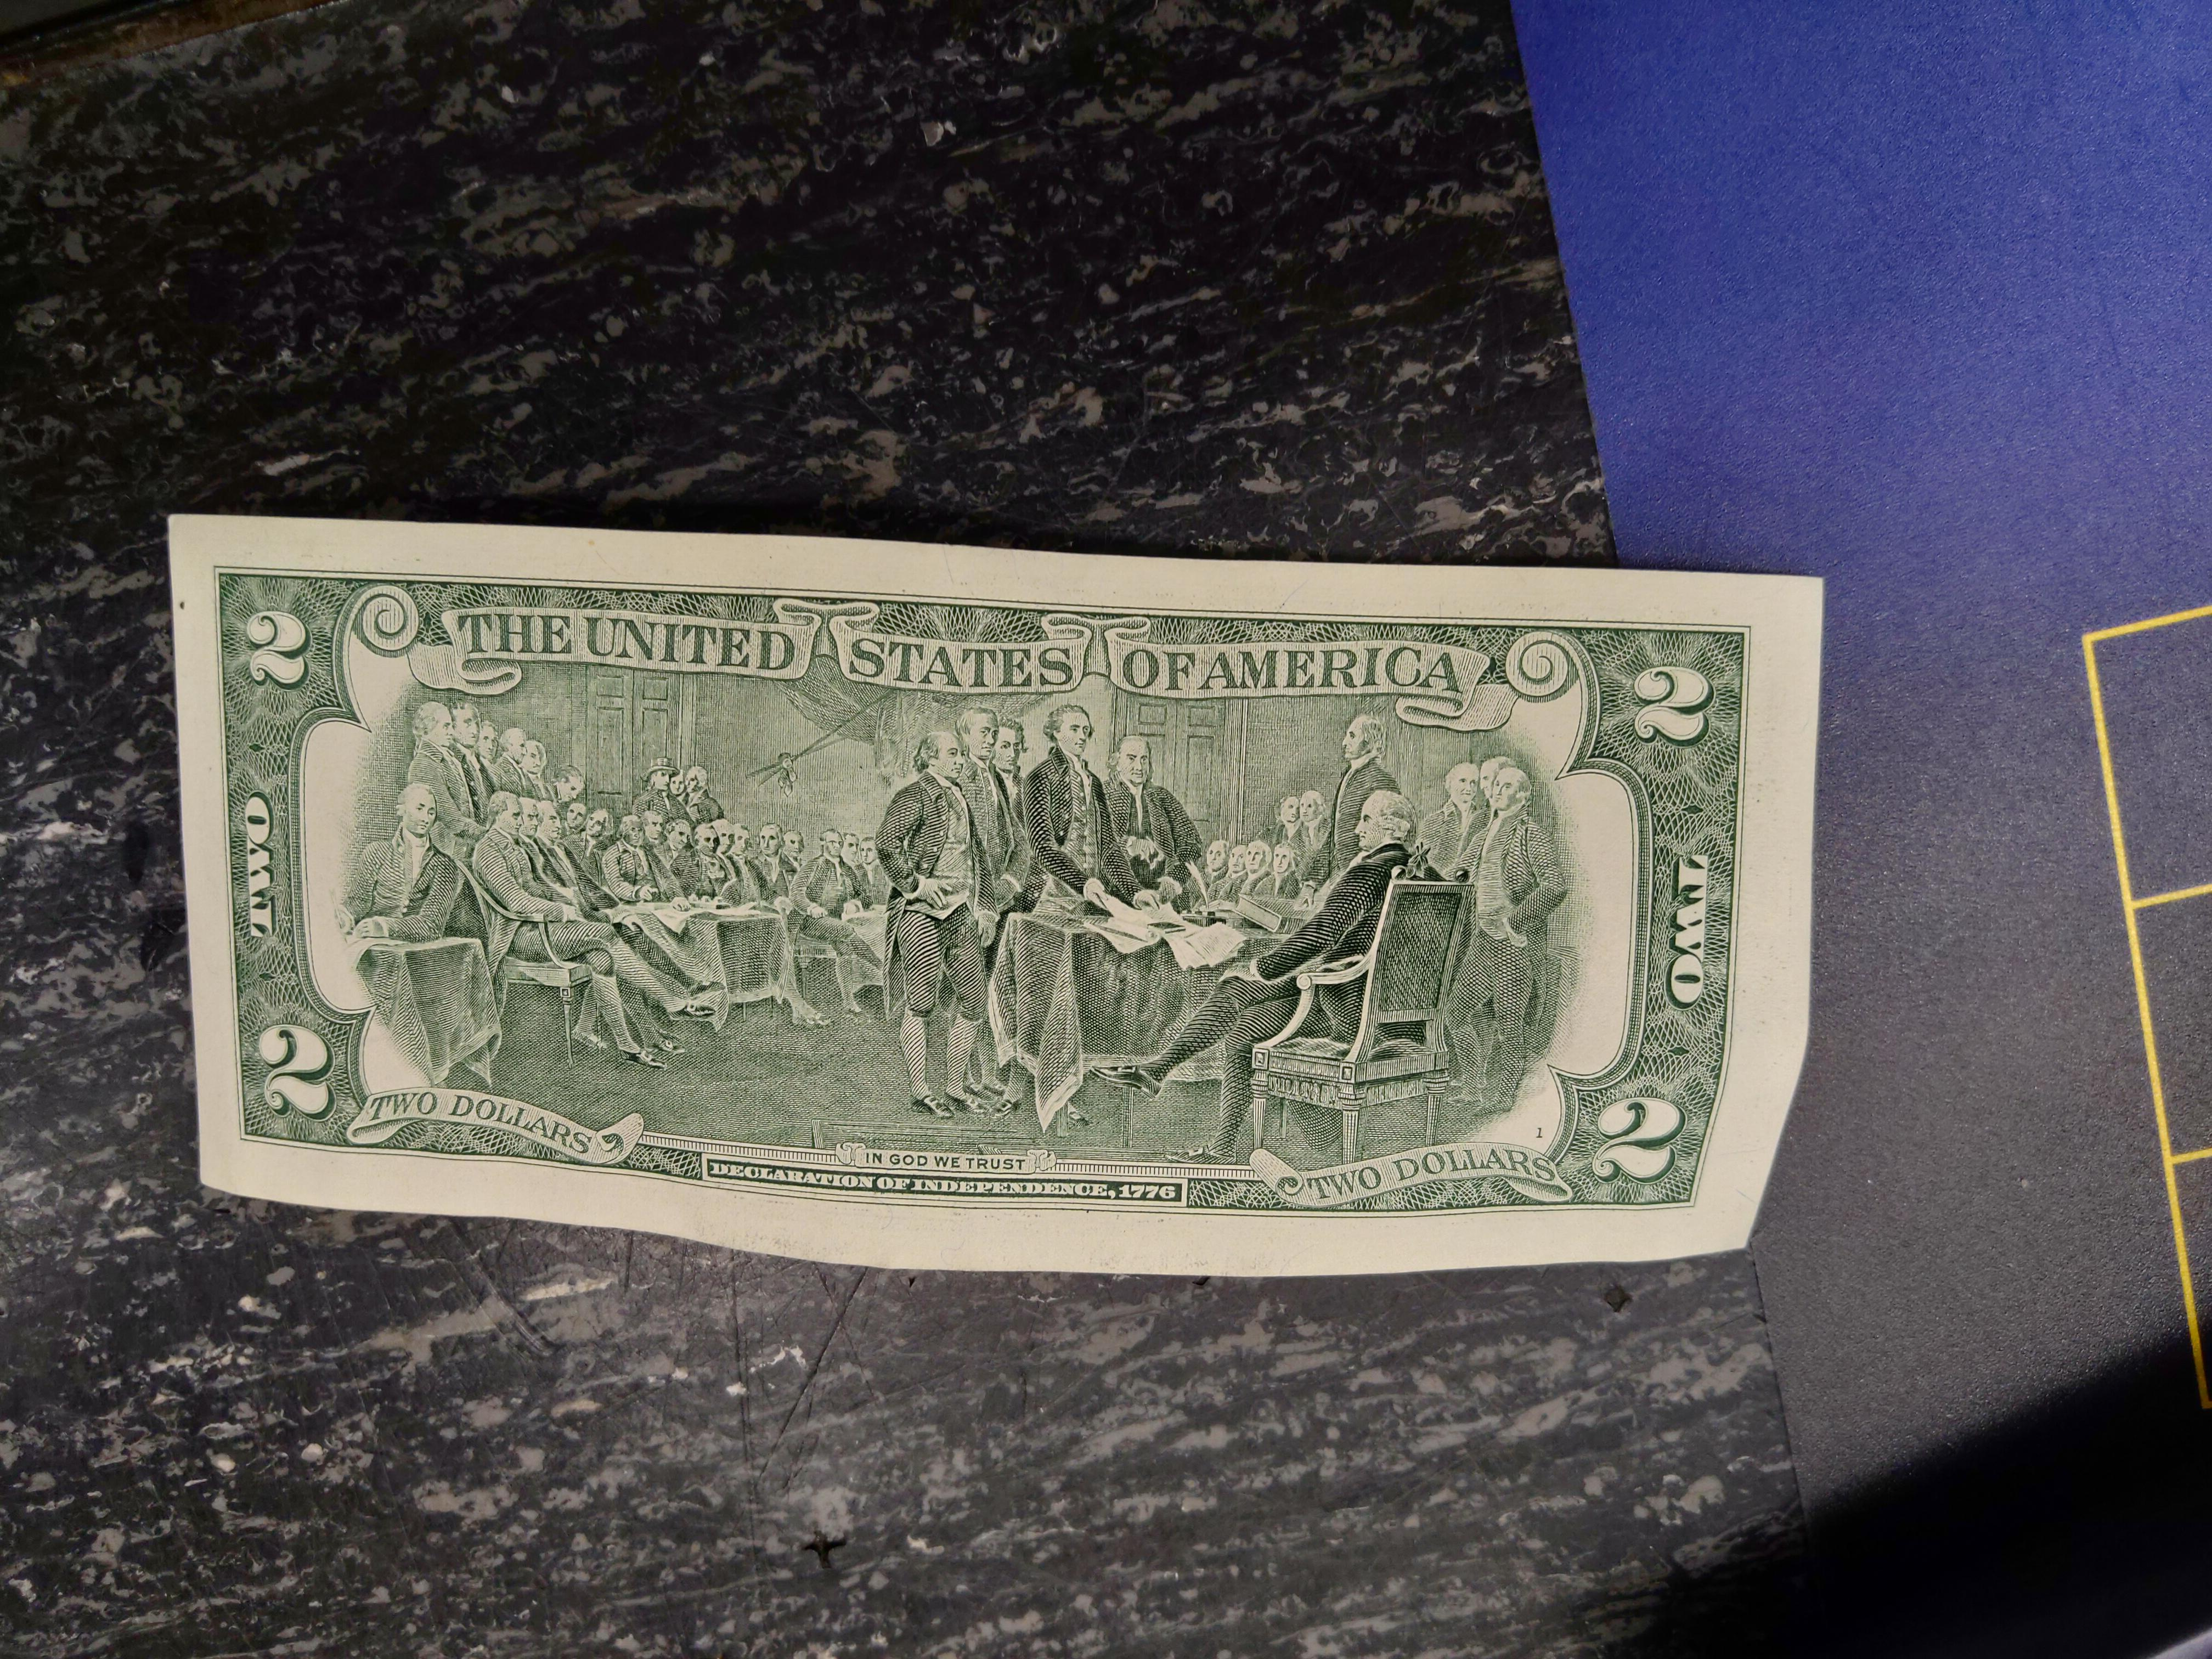TwoBill: (162, 505, 1831, 1284)
